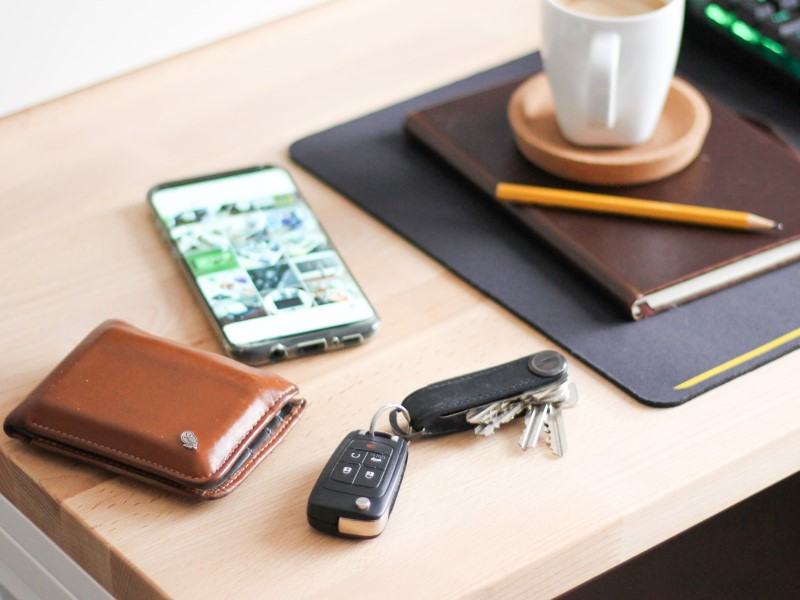carkey: (301, 420, 412, 540)
key: (463, 375, 581, 460)
